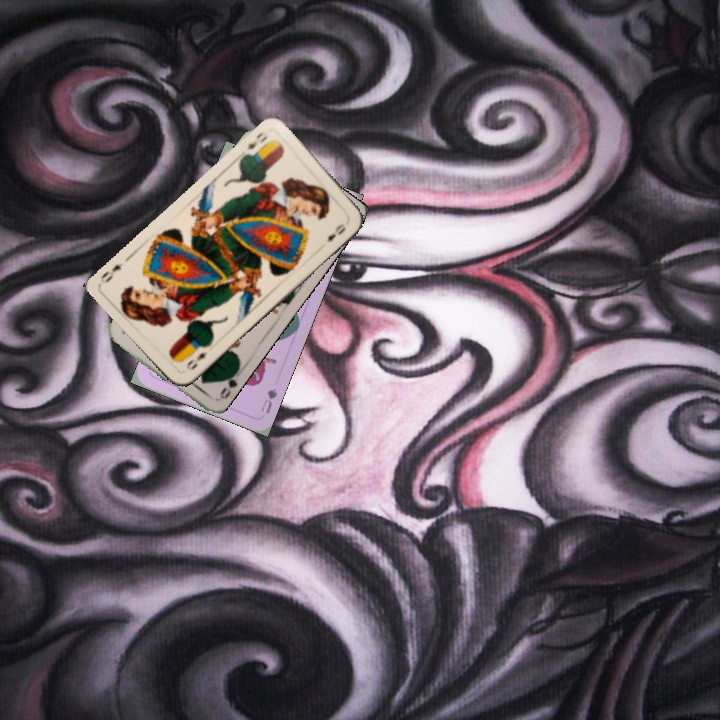EO: (182, 348, 210, 373), (242, 128, 270, 153)
GO: (216, 365, 241, 402)
GU: (257, 384, 280, 416)
